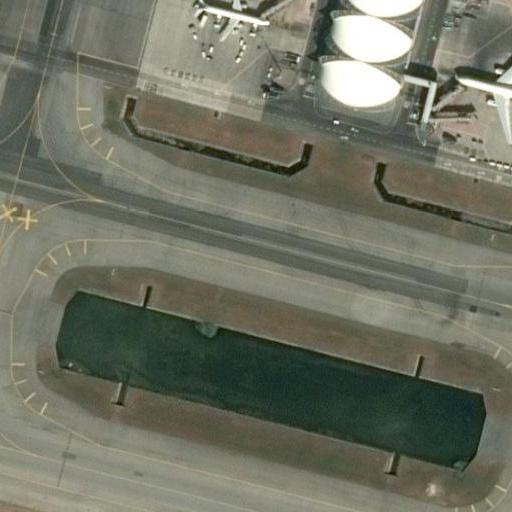Aircraft: (453, 30, 512, 144), (189, 0, 269, 46), (487, 0, 512, 12)
